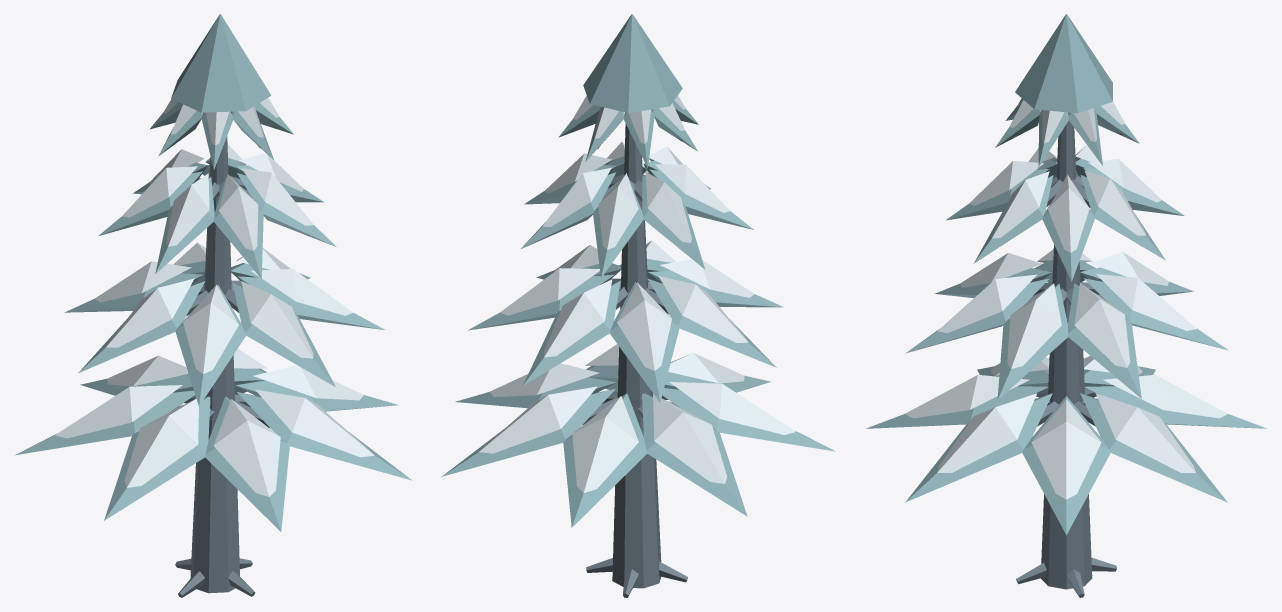
Rendered from arvore.glb.
The picture shows the model from 3 angles, left to right: view 1: azimuth 30°, elevation 25°; view 2: azimuth 150°, elevation 25°; view 3: azimuth 270°, elevation 25°; orthographic projection.
Visible parts, largest first — view 1: neve_arvore; view 2: neve_arvore; view 3: neve_arvore.
Part boxes in pixels (left/top/right/bottom): neve_arvore: left=15, top=14, right=411, bottom=597; neve_arvore: left=441, top=14, right=835, bottom=597; neve_arvore: left=865, top=14, right=1267, bottom=597.
Size of the model in its own units: 1.37 by 2.18 by 1.4.
